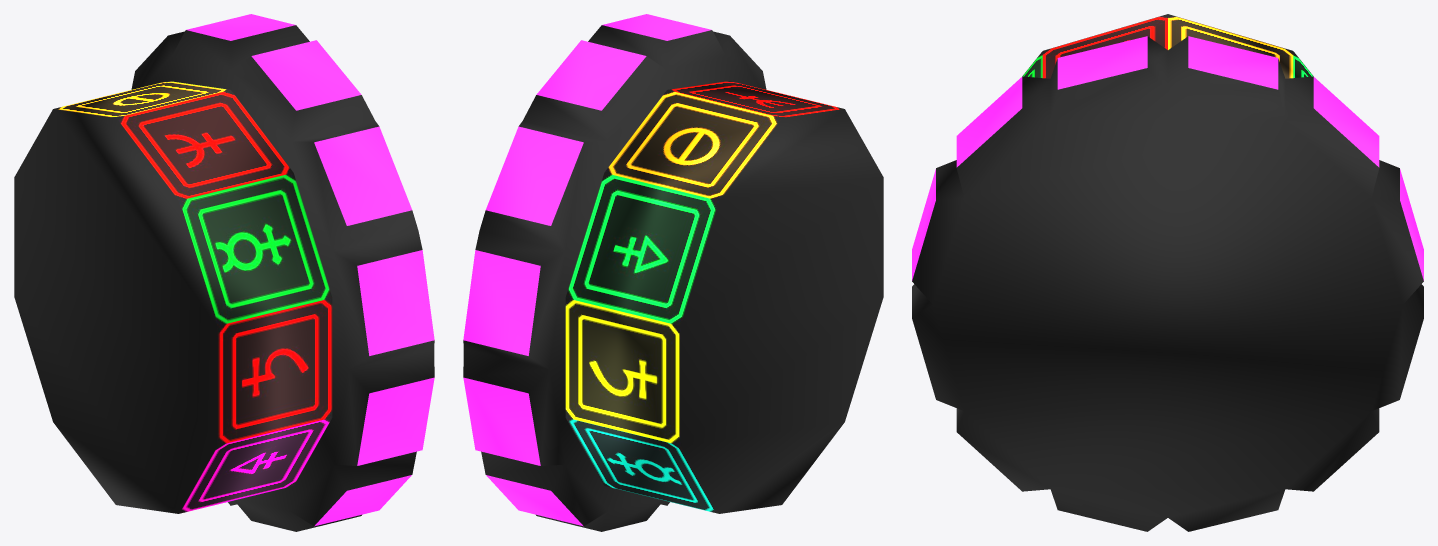
The model's file is Padlock_roulette.glb.
3 renders of one model, left to right at view 1: azimuth 30°, elevation 25°; view 2: azimuth 150°, elevation 25°; view 3: azimuth 270°, elevation 25°, orthographic.
Parts seen in each view (by area): view 1: Cylinder.013; view 2: Cylinder.013; view 3: Cylinder.013.
Part boxes in pixels (bbox=[...]): Cylinder.013: bbox=[14, 14, 434, 531]; Cylinder.013: bbox=[463, 14, 883, 531]; Cylinder.013: bbox=[912, 14, 1423, 531].
Bounding box in the file's own units: 0.1083 × 0.2398 × 0.2398.
Materials: 3 (1 with a texture image).
